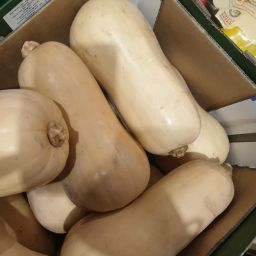Butternut Squash: (15, 39, 194, 191), (66, 1, 207, 176), (1, 50, 138, 200), (5, 190, 204, 255), (89, 144, 239, 223)
